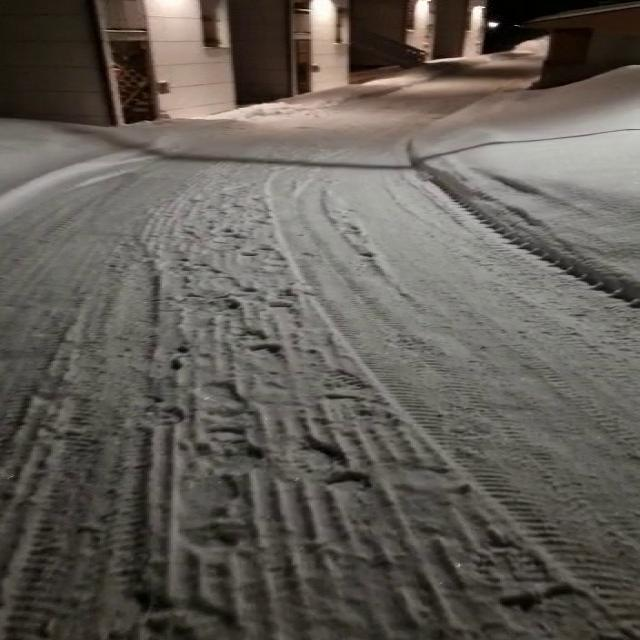path: (0, 55, 638, 640)
